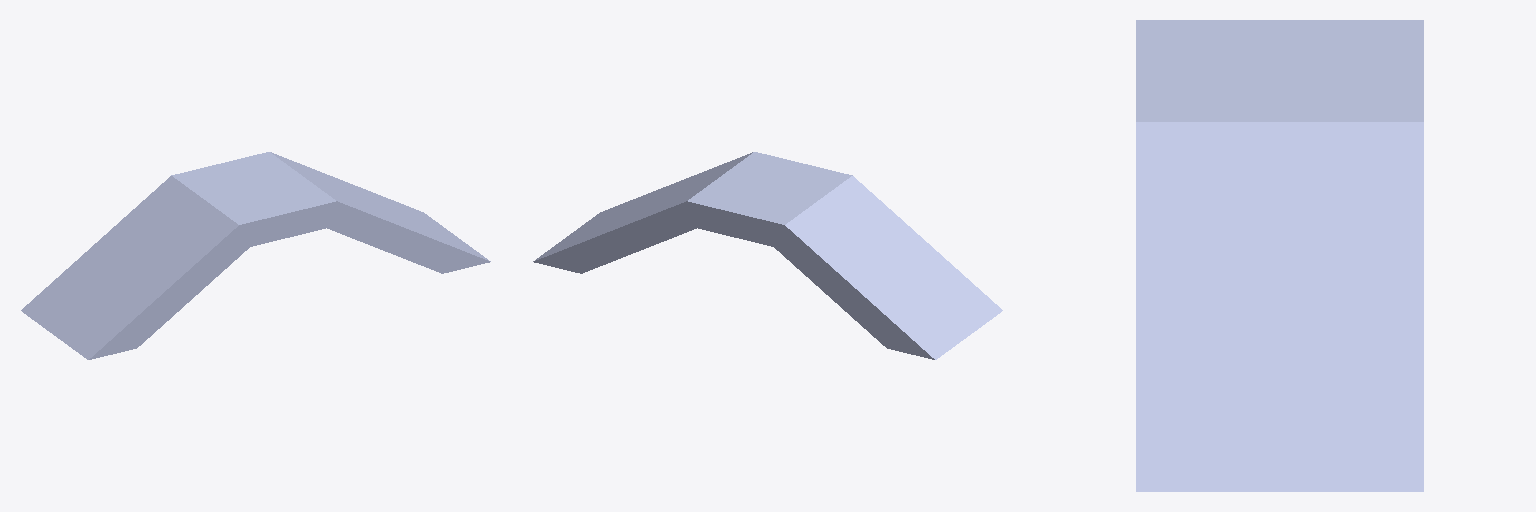
robot.urdf — incline_plane:
<?xml version="1.0" encoding="utf-8"?>
<!-- This URDF was automatically created by SolidWorks to URDF Exporter! Originally created by [author] ([email redacted]) 
     Commit Version: 1.6.0-1-g15f4949  Build Version: 1.6.7594.29634
     For more information, please see http://wiki.ros.org/sw_urdf_exporter -->
<robot
  name="incline_plane">
  <link
    name="base_link">
    <inertial>
      <origin
        xyz="0.600097973508678 0.2 0.0487818584295284"
        rpy="0 0 0" />
      <mass
        value="39.4788577535736" />
      <inertia
        ixx="0.566318401927816"
        ixy="1.73879054151979E-16"
        ixz="0.0150927472692977"
        iyy="2.97421497969118"
        iyz="-1.02129293278978E-17"
        izz="3.46066611785867" />
    </inertial>
    <visual>
      <origin
        xyz="0 0 0"
        rpy="0 0 0" />
      <geometry>
        <mesh
          filename="package://incline_plane/meshes/base_link.STL" scale="5 6 8"/>
      </geometry>
      <material
        name="">
        <color
          rgba="0.792156862745098 0.819607843137255 0.933333333333333 1" />
      </material>
    </visual>
    <collision>
      <origin
        xyz="0 0 0"
        rpy="0 0 0" />
      <geometry>
        <mesh
          filename="package://incline_plane/meshes/base_link.STL" scale="5 6 8"/>
      </geometry>
    </collision>
  </link>
</robot>

--- What the picture shows (computed from the rendered views, not written in the file) ---
3 views of the same robot in one strip: view 1: azimuth 30°, elevation 25°; view 2: azimuth 150°, elevation 25°; view 3: azimuth 270°, elevation 25° (orthographic).
Robot: incline_plane — 1 links, 0 joints (none); root link base_link; default pose: all joints at 0.
Visible links, largest first — view 1: base_link; view 2: base_link; view 3: base_link.
Link boxes in pixels (x1,y1,x2,y2): base_link: (21, 152, 490, 359); base_link: (533, 152, 1002, 359); base_link: (1136, 20, 1423, 491).
Bounding box of the posed robot: 4.12 × 1.2 × 0.96 m (x, y, z).
Meshes: 1 distinct files referenced, 1 mesh visuals loaded (1 binary STL).